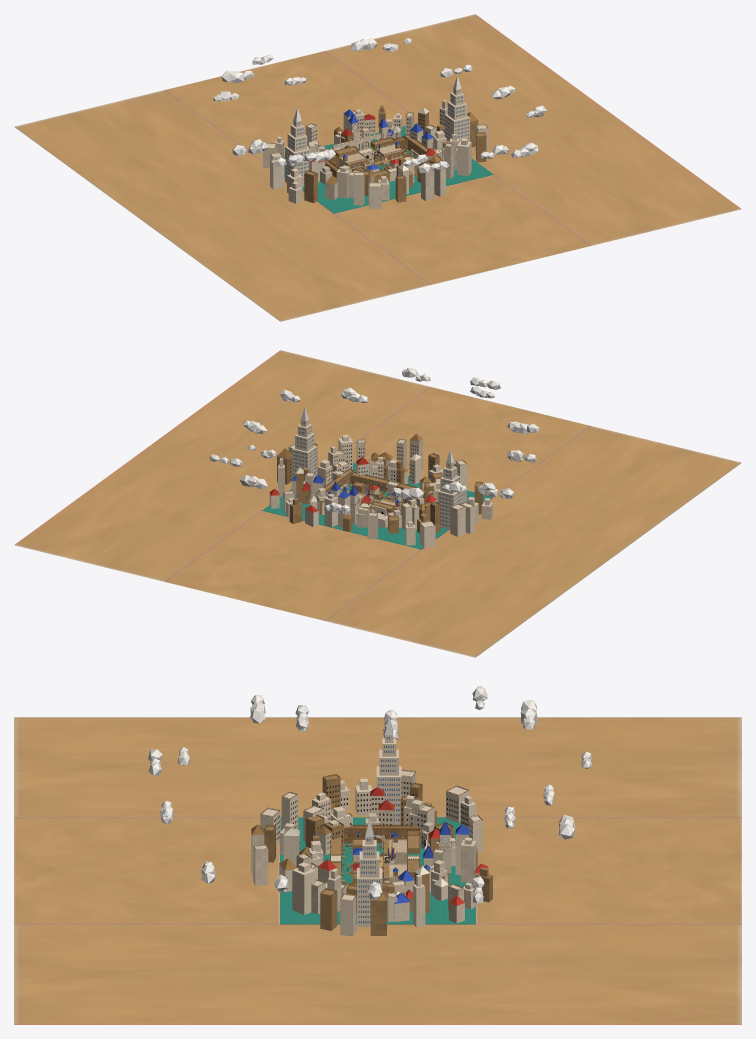
The model's file is desktown_webp.glb.
3 renders of one model, top to bottom at view 1: azimuth 30°, elevation 25°; view 2: azimuth 150°, elevation 25°; view 3: azimuth 270°, elevation 25°, orthographic. The views are drawn at different scales.
Parts seen in each view (by area): view 1: desktown_far_print, desktown_far_paper, desktown_far_kraft, desktown_play_kraft, desktown_far_mat, desktown_play_paper, desktown_play_print; view 2: desktown_far_print, desktown_far_paper, desktown_far_kraft, desktown_far_mat, desktown_play_kraft, desktown_far_edge; view 3: desktown_far_print, desktown_far_paper, desktown_far_kraft, desktown_far_mat, desktown_play_kraft, desktown_far_edge, desktown_play_paper, desktown_play_print.
Part boxes in pixels (<box>): desktown_far_print: <box>14,14,741,321</box>; desktown_far_paper: <box>263,88,488,209</box>; desktown_far_kraft: <box>304,105,486,203</box>; desktown_play_kraft: <box>325,134,441,182</box>; desktown_far_mat: <box>262,123,493,213</box>; desktown_play_paper: <box>332,144,422,181</box>; desktown_play_print: <box>332,138,421,176</box>; desktown_far_print: <box>14,350,741,657</box>; desktown_far_paper: <box>269,419,492,547</box>; desktown_far_kraft: <box>277,443,482,533</box>; desktown_far_mat: <box>262,462,493,549</box>; desktown_play_kraft: <box>316,469,433,514</box>; desktown_far_edge: <box>283,438,482,527</box>; desktown_far_print: <box>14,686,741,1024</box>; desktown_far_paper: <box>251,735,488,936</box>; desktown_far_kraft: <box>264,774,492,935</box>; desktown_far_mat: <box>280,817,475,923</box>; desktown_play_kraft: <box>331,824,419,892</box>; desktown_far_edge: <box>253,769,482,901</box>; desktown_play_paper: <box>331,834,419,883</box>; desktown_play_print: <box>332,826,419,883</box>.
Bounding box in the file's own units: 520 × 85.12 × 520.
5 materials, 5 textured.
